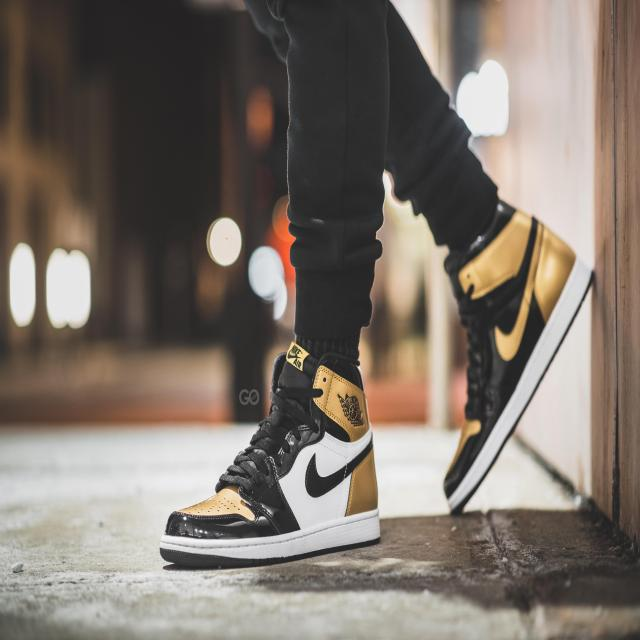shoe: (153, 331, 387, 593), (435, 190, 607, 537)
